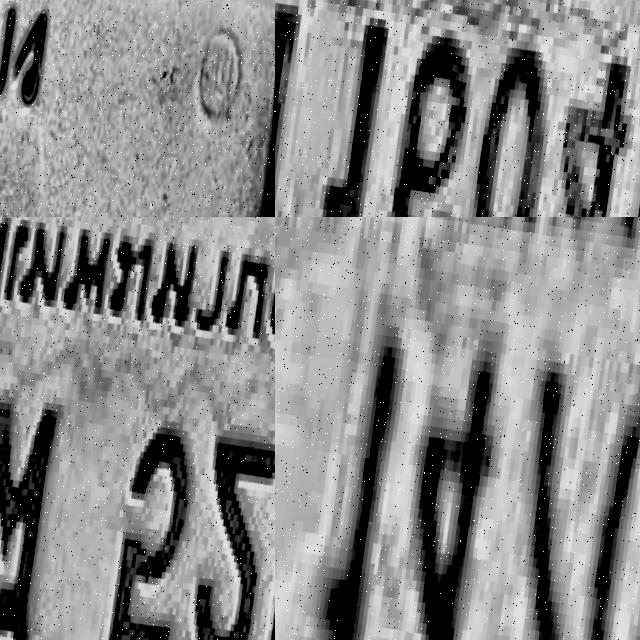license-plate: (275, 217, 640, 640), (0, 217, 275, 640), (275, 0, 640, 217), (0, 0, 275, 217)
